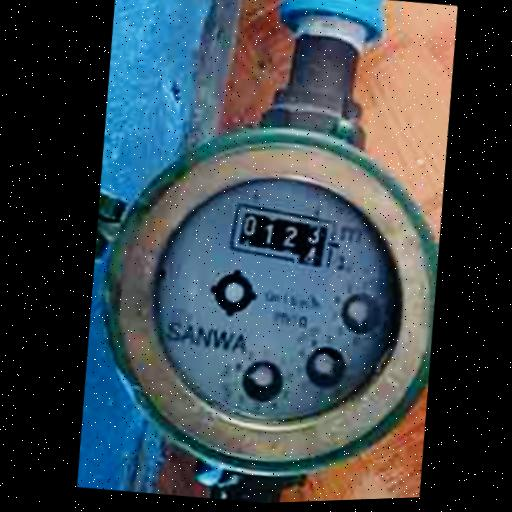0: (236, 212, 263, 249)
1: (255, 214, 282, 251)
2: (274, 218, 305, 255)
3: (295, 222, 329, 268)
border_water_meter_number: (225, 198, 342, 274)
